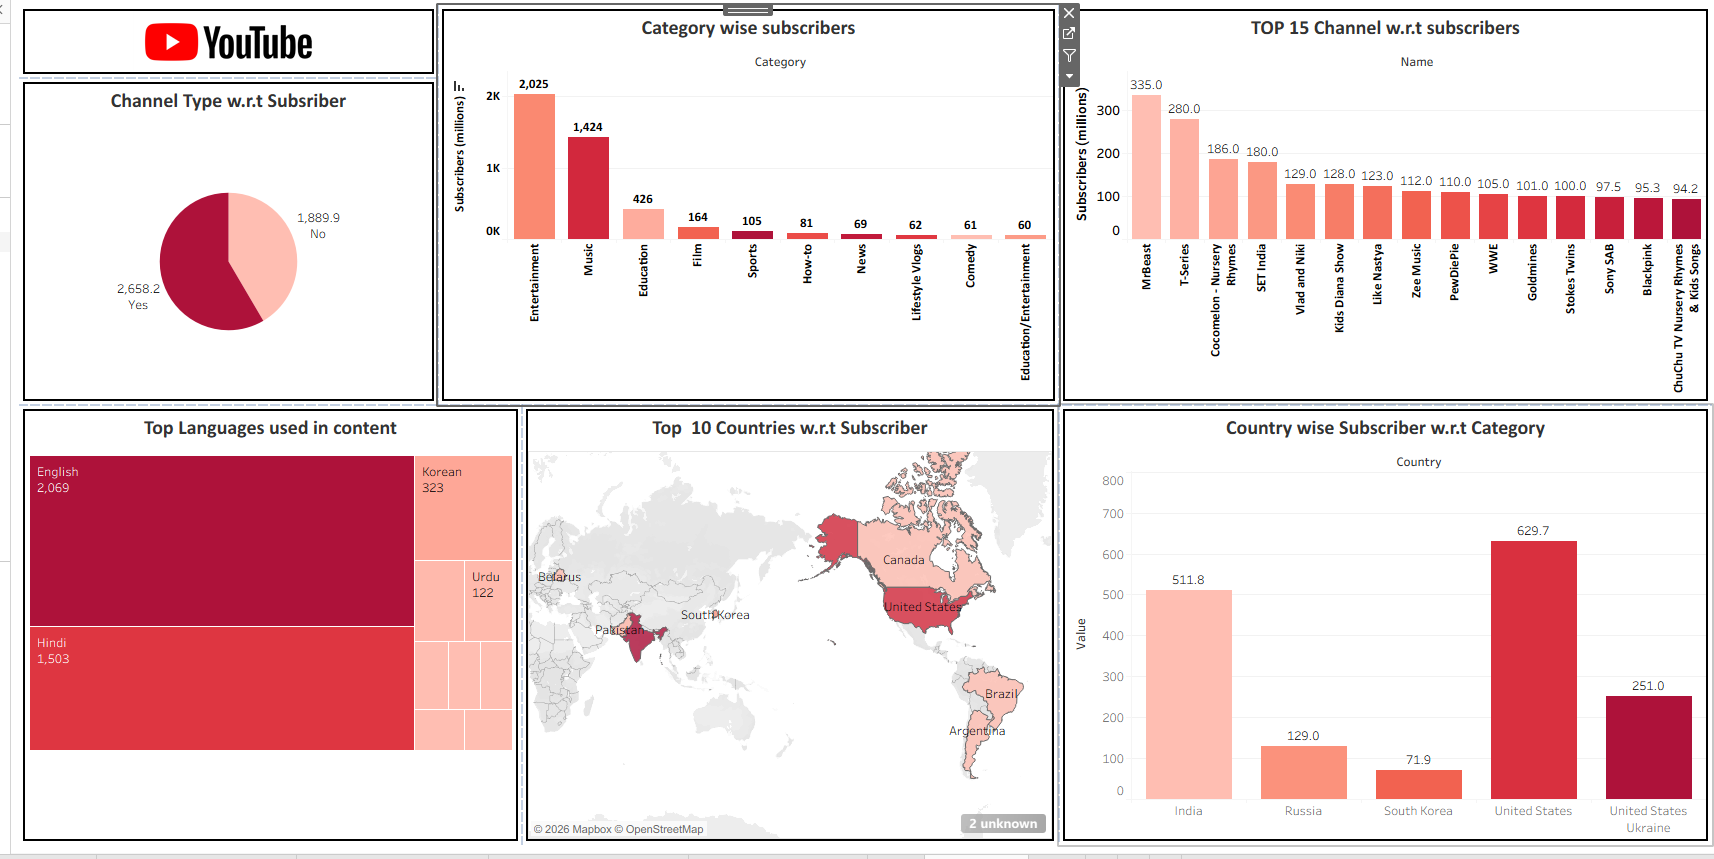

Layout of this report page (visuals, bound fields, positions):
{"tool":"tableau","page":{"name":"Dashboard 1","canvas":[1000,1000],"units":"permille","ordinal":0},"visuals":[{"type":"image","param":"C:/Users/Abhay/OneDrive/Desktop/Tableau class project/Youtube image.jpg","box":[4.7,9.3,245.2,85.4]},{"type":"worksheet","title":"Category wise subscribers","mark":"Automatic","rows":["Subscribers (millions)"],"cols":["Category"],"box":[249.8,9.3,363.1,467.3]},{"type":"worksheet","title":"TOP 15 Channel w.r.t subscribers","mark":"Bar","rows":["Subscribers (millions)"],"cols":["Name"],"box":[613,9.3,382.3,467.3]},{"type":"worksheet","title":"Channel Type w.r.t Subsriber","mark":"Pie","box":[4.7,94.7,245.2,381.9]},{"type":"worksheet","title":"Top Languages used in content","mark":"Automatic","box":[4.7,476.6,294.4,514]},{"type":"worksheet","title":"Top  10 Countries w.r.t Subscriber","mark":"Automatic","box":[299.1,476.6,313.9,514]},{"type":"worksheet","title":"Sheet 6","mark":"Automatic","cols":["Country"],"box":[613,476.6,382.3,514]}]}

Visuals, with their boxes on the dashboard's canvas, which has no fixed pixel size, in thousandths of its width and height (x1, y1, x2, y2). These are canvas units, not pixel positions in the 1714x859 screenshot, which may show the page scaled, cropped or inside an application window:
image: BBox(5, 9, 250, 95)
"Category wise subscribers" worksheet: BBox(250, 9, 613, 477)
"TOP 15 Channel w.r.t subscribers" worksheet (Bar marks): BBox(613, 9, 995, 477)
"Channel Type w.r.t Subsriber" worksheet (Pie marks): BBox(5, 95, 250, 477)
"Top Languages used in content" worksheet: BBox(5, 477, 299, 991)
"Top  10 Countries w.r.t Subscriber" worksheet: BBox(299, 477, 613, 991)
"Sheet 6" worksheet: BBox(613, 477, 995, 991)
